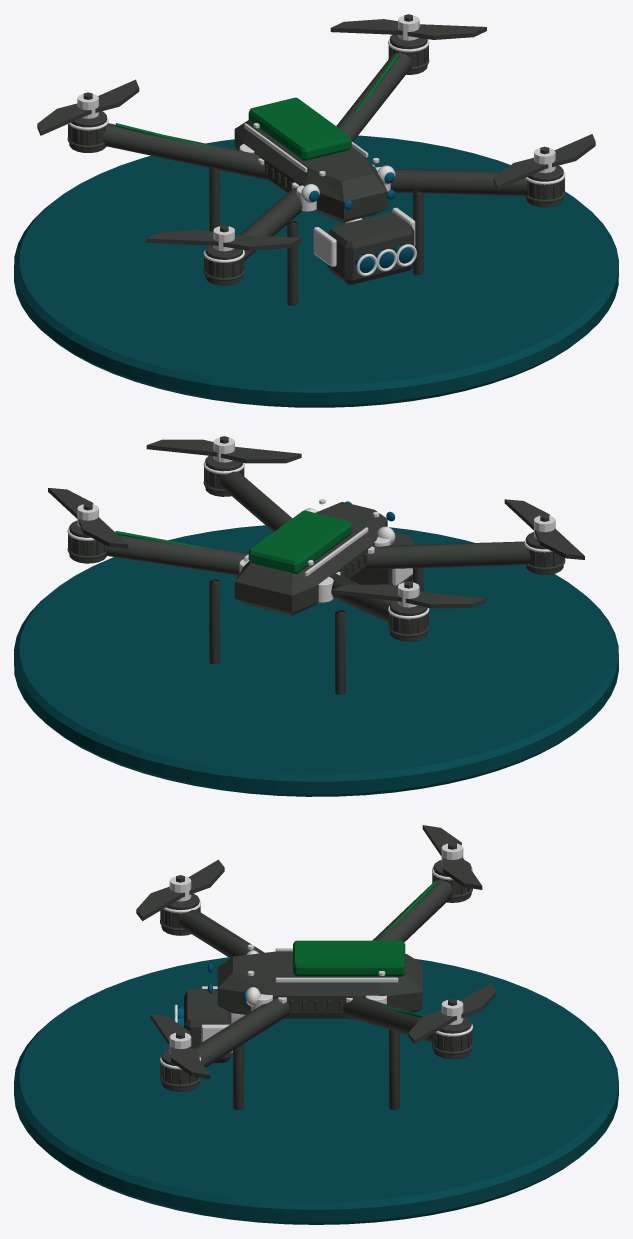
File: skydio-x10.glb
3 views of the same model, one above another, from view 1: azimuth 30°, elevation 25°; view 2: azimuth 150°, elevation 25°; view 3: azimuth 270°, elevation 25° (orthographic).
Visible parts, largest first — view 1: pedestal, body; view 2: pedestal, body; view 3: pedestal, body.
Part boxes in pixels (left/top/right/bottom): pedestal: left=14, top=135, right=618, bottom=407; body: left=37, top=14, right=595, bottom=305; pedestal: left=14, top=525, right=618, bottom=796; body: left=48, top=436, right=584, bottom=694; pedestal: left=14, top=957, right=618, bottom=1224; body: left=136, top=825, right=496, bottom=1109.
Size of the model in its own units: 4.4 by 1.42 by 4.4.
